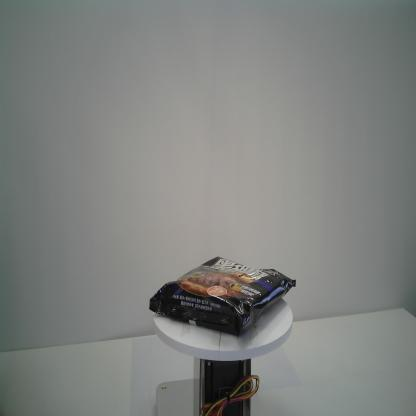Instant Noodles: (148, 254, 297, 342)
